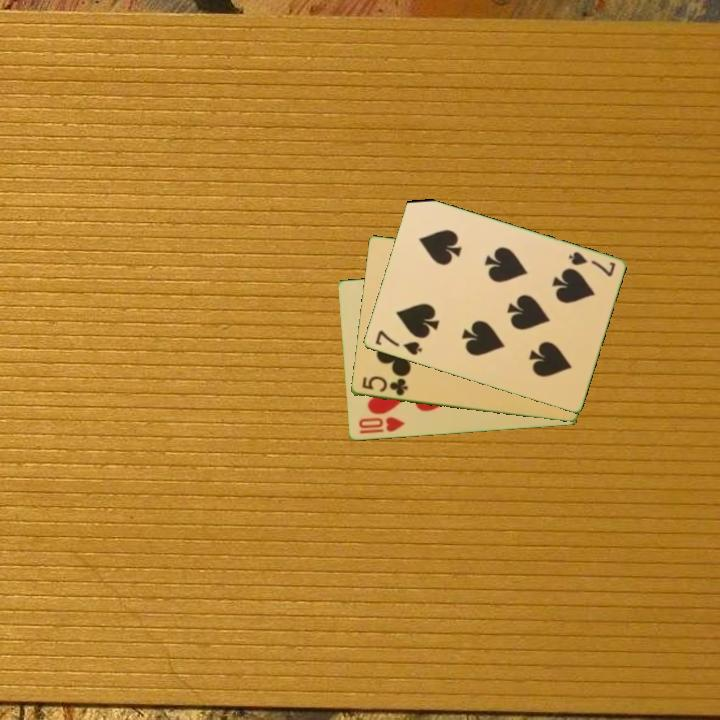10h: (355, 414, 407, 437)
5c: (358, 373, 410, 399)
7s: (564, 248, 618, 280), (371, 327, 425, 358)
